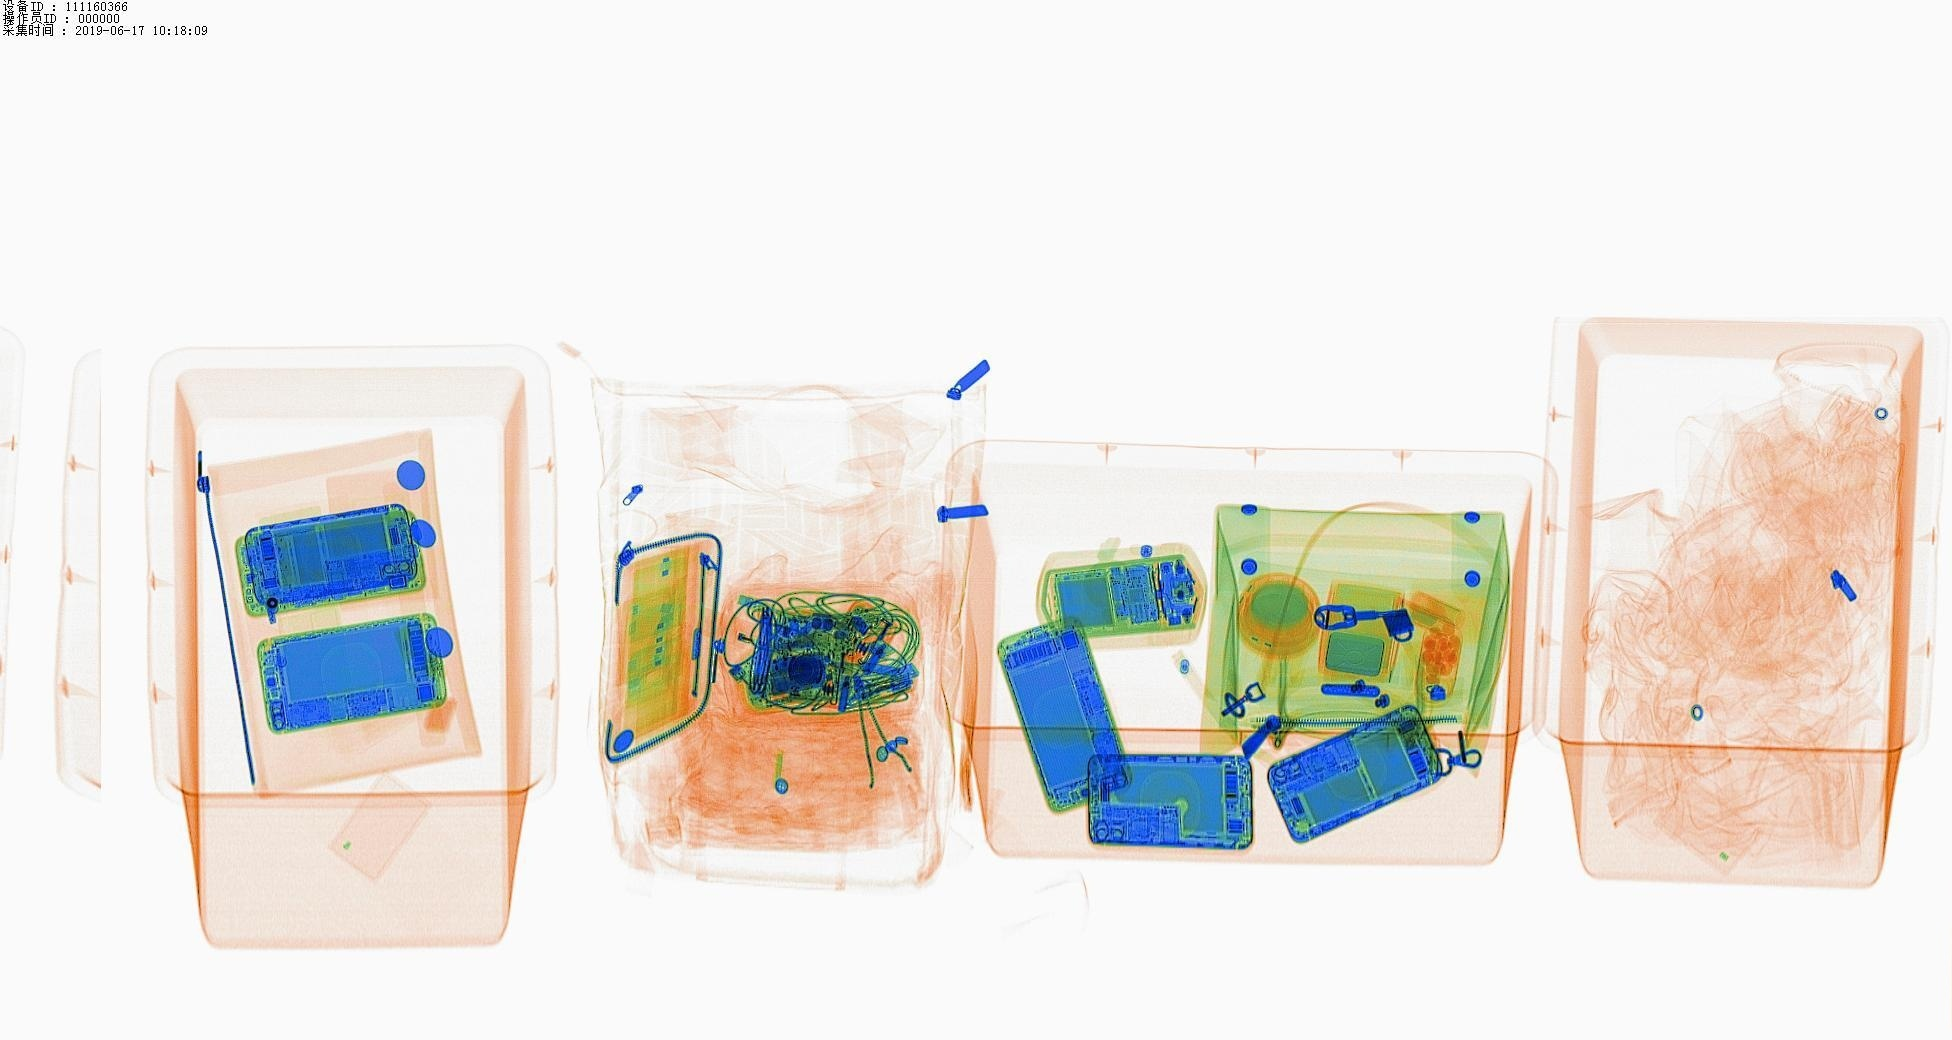NonmetallicFire: (676, 579, 800, 661)
